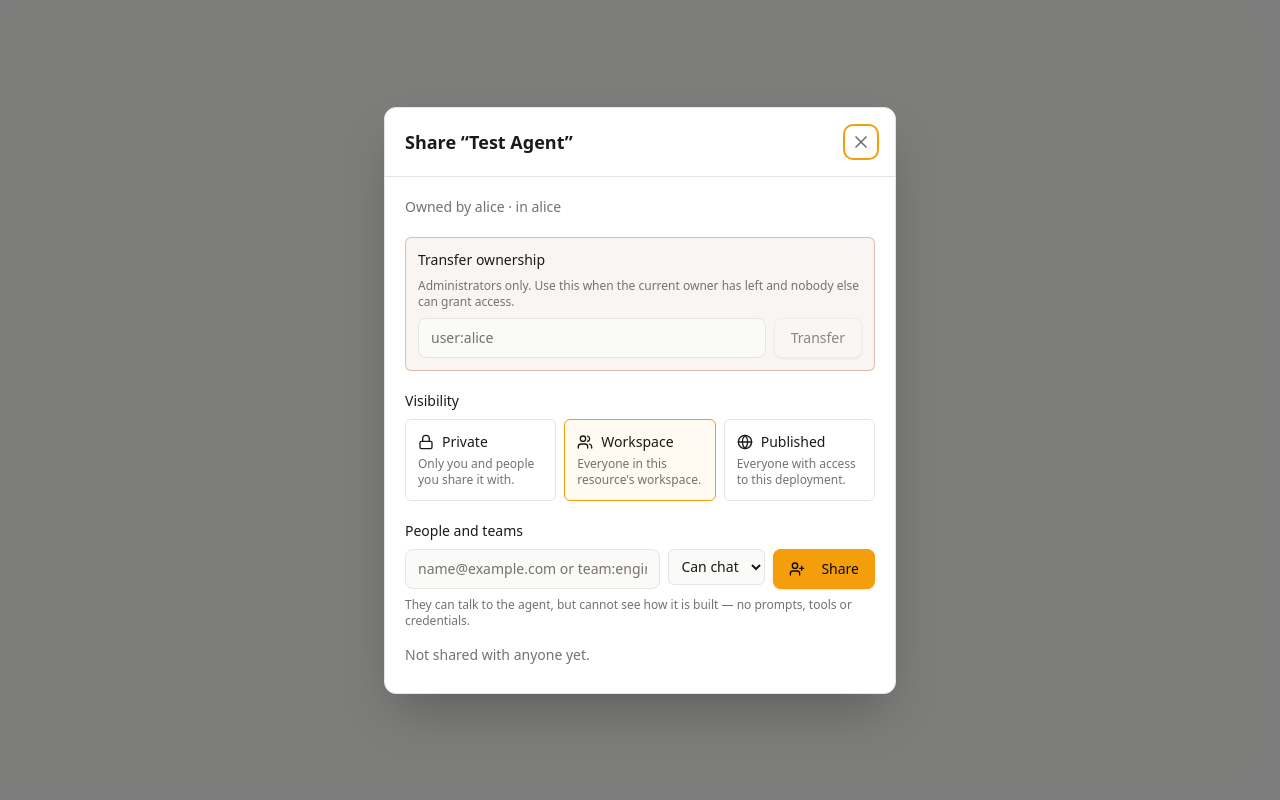
Test case: ShareDialog — transfer ownership › asks before it transfers, and names who loses control
The image size is (1280, 800).
Type "user:bob" into the field with test id "transfer-subject-input".
click(592, 338); type("user:bob")  # box x1=418 y1=318 x2=766 y2=358
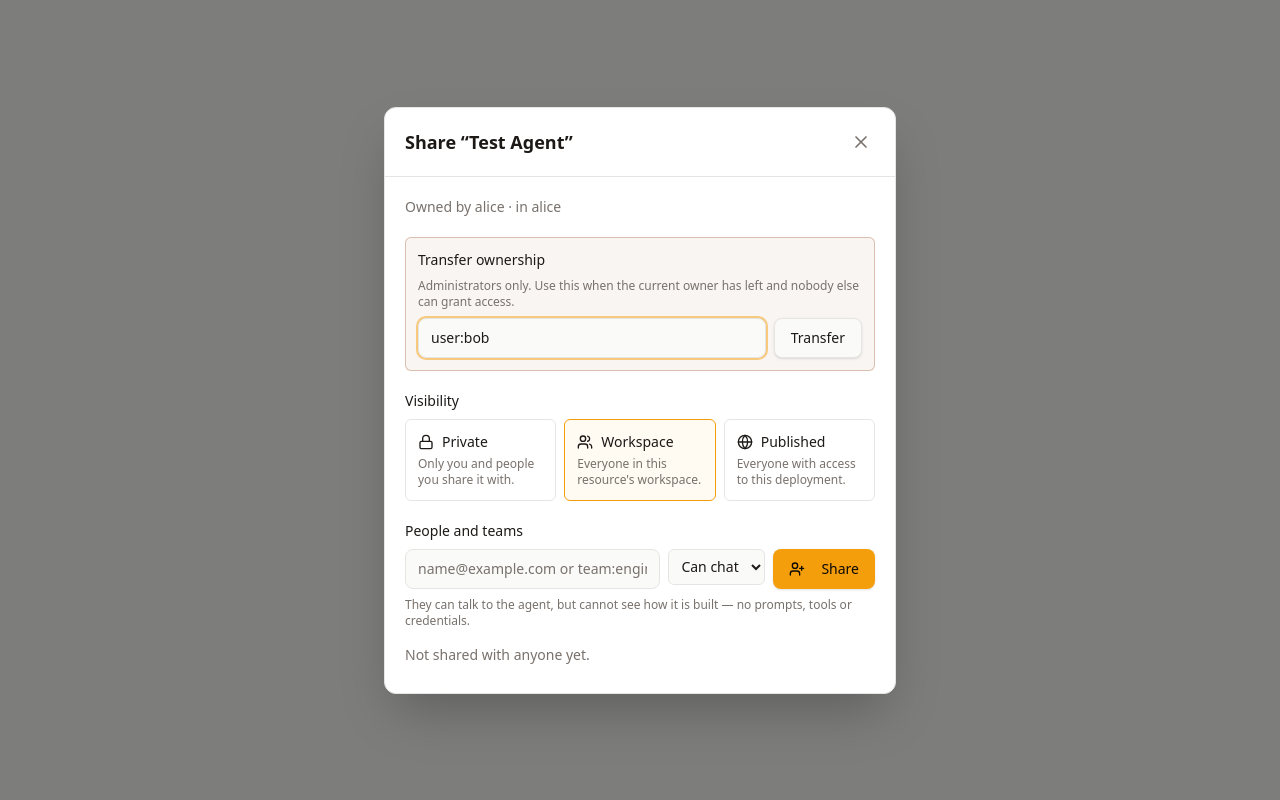
Click the button with test id "transfer-submit".
click(818, 338)  # box x1=774 y1=318 x2=862 y2=358
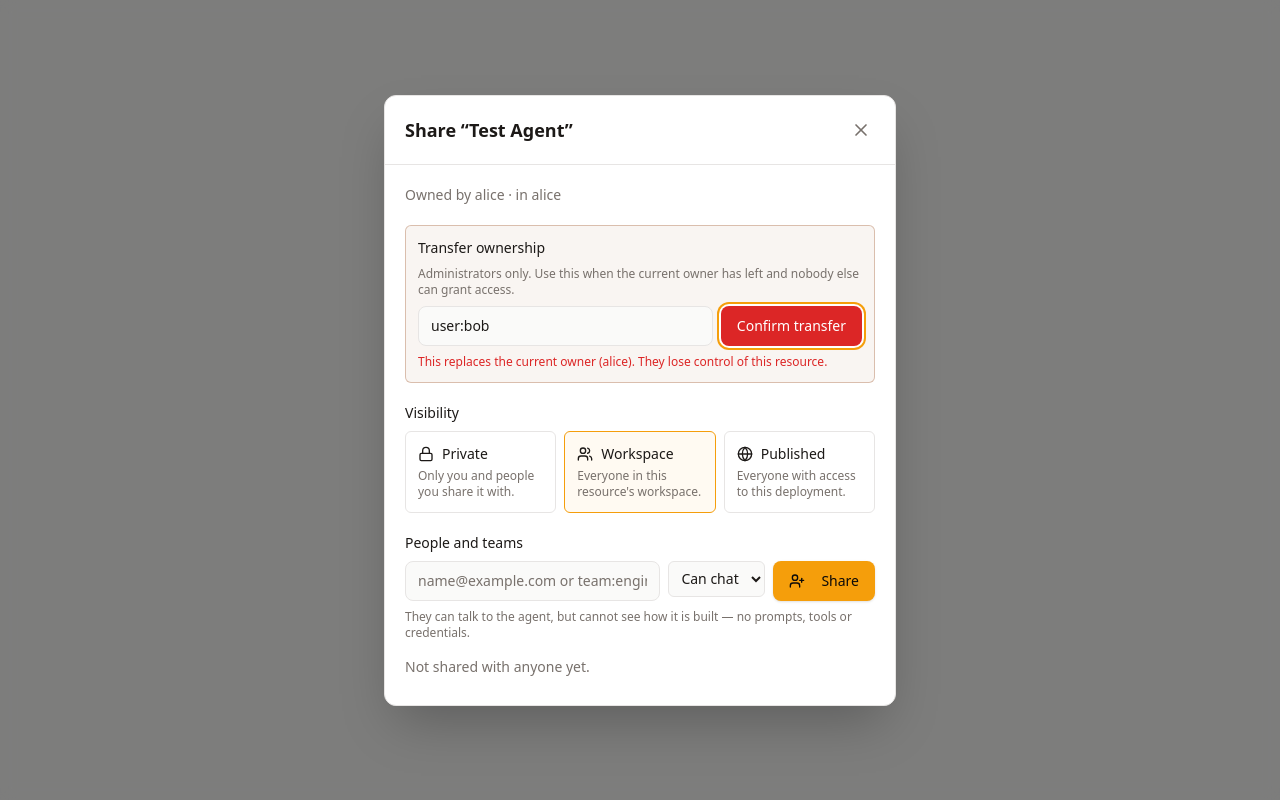
Now the message with test id "transfer-warning" shows "alice", box x1=418 y1=352 x2=827 y2=370
